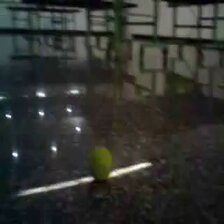tennis: (87, 146, 114, 182)
